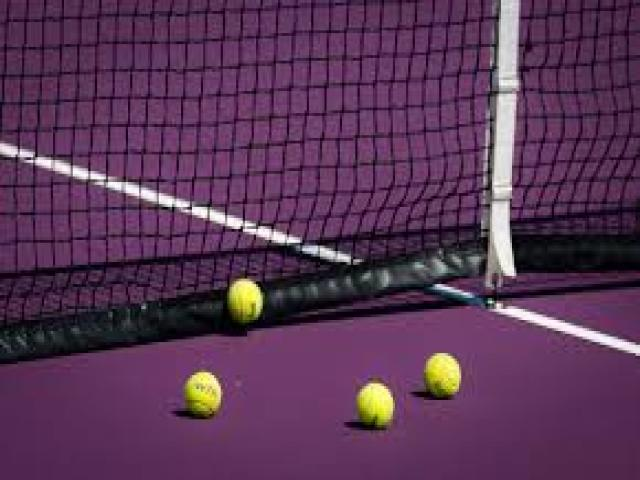tennis-ball: (423, 352, 462, 398), (185, 370, 223, 416), (356, 380, 394, 426), (226, 279, 263, 322)
